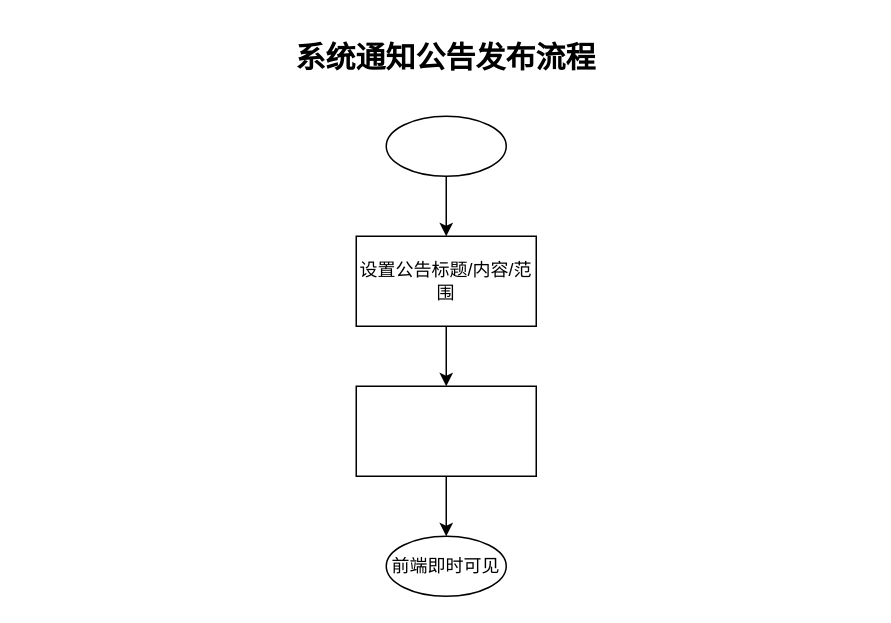
Some shapes in this 891 by 623 pixel diagram are drawn without their labels. Each missing label, with the centre of its shape:
存入数据库并发布: point (445, 430)
管理员编写公告: point (445, 145)
